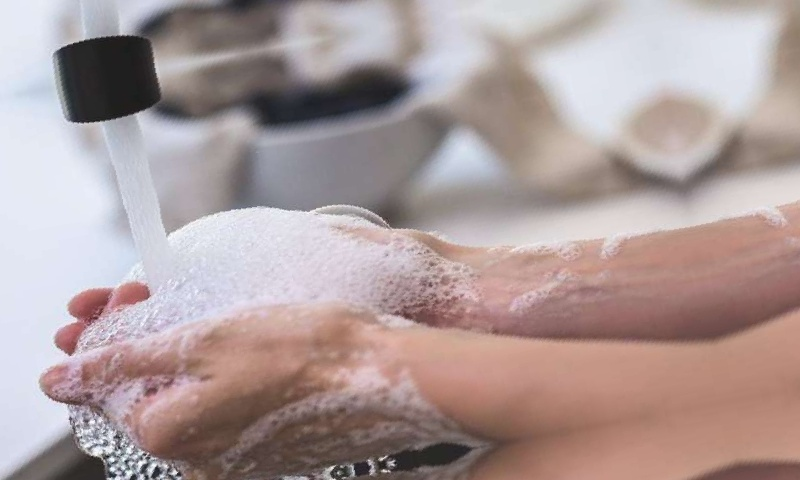washing hand: (0, 48, 433, 479)
